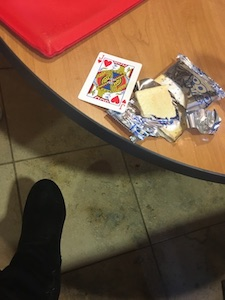JackOfHearts: (75, 49, 145, 117)
